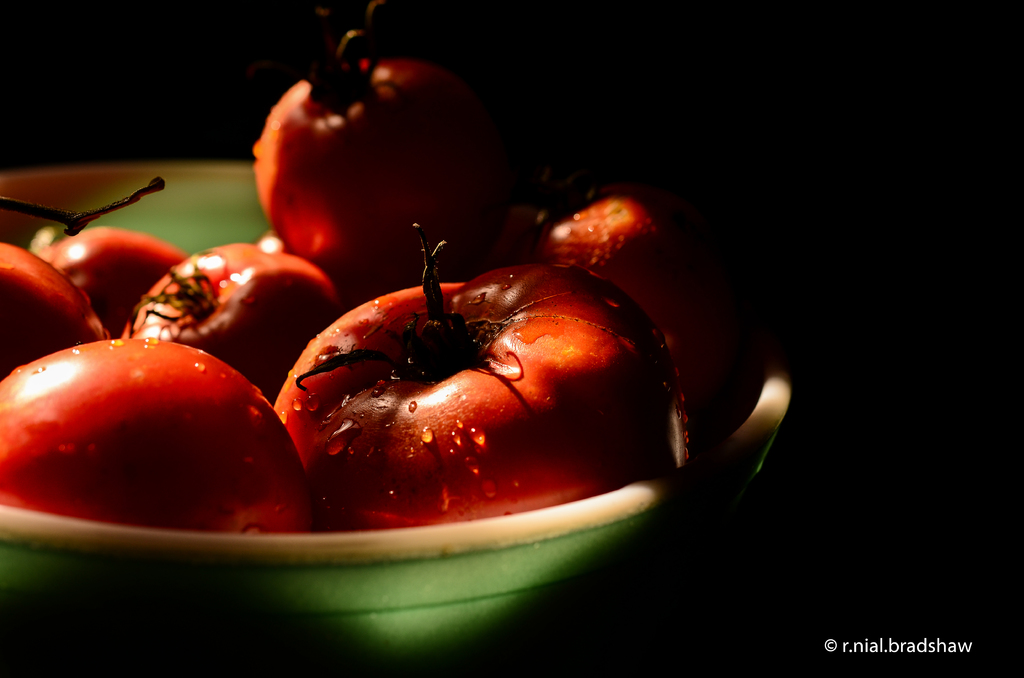Tomato: (293, 248, 684, 526)
